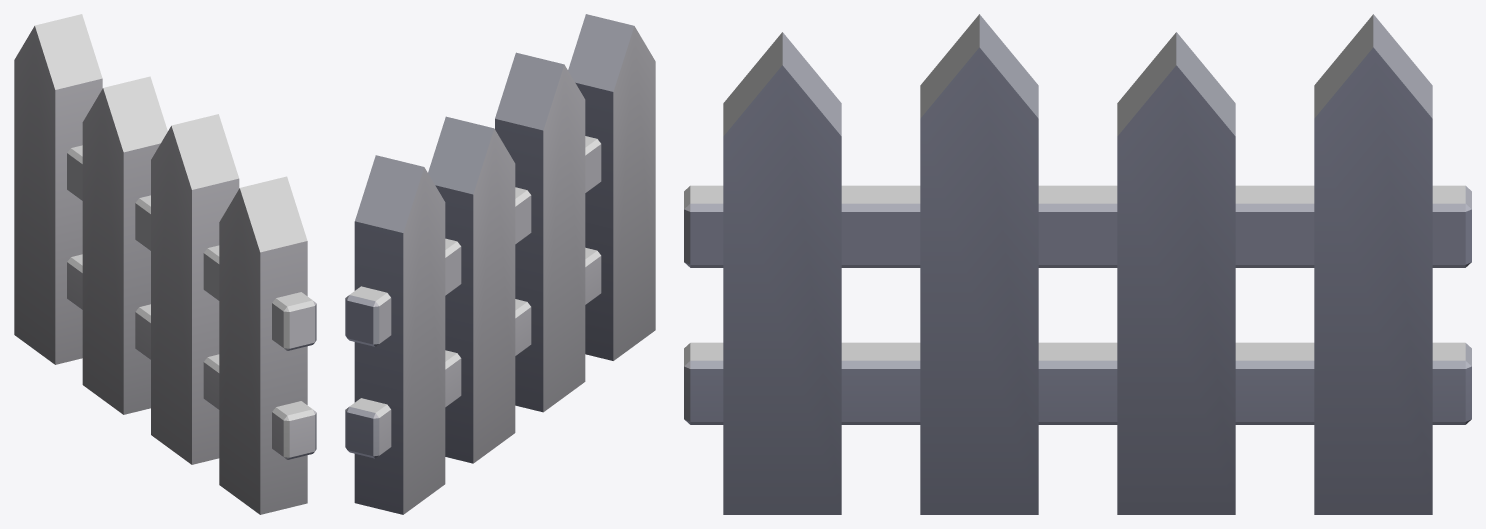
Rendered from fence_z.glb.
3 views of the same model, side by side, from view 1: azimuth 30°, elevation 25°; view 2: azimuth 150°, elevation 25°; view 3: azimuth 270°, elevation 25° (orthographic). The views are drawn at different scales.
Visible parts, largest first — view 1: fence_z; view 2: fence_z; view 3: fence_z.
Part boxes in pixels (x1=…): fence_z: x1=14, y1=14, x2=316, y2=514; fence_z: x1=345, y1=14, x2=655, y2=514; fence_z: x1=684, y1=14, x2=1471, y2=514.
Bounding box in the file's own units: 0.1 × 0.655 × 1.
